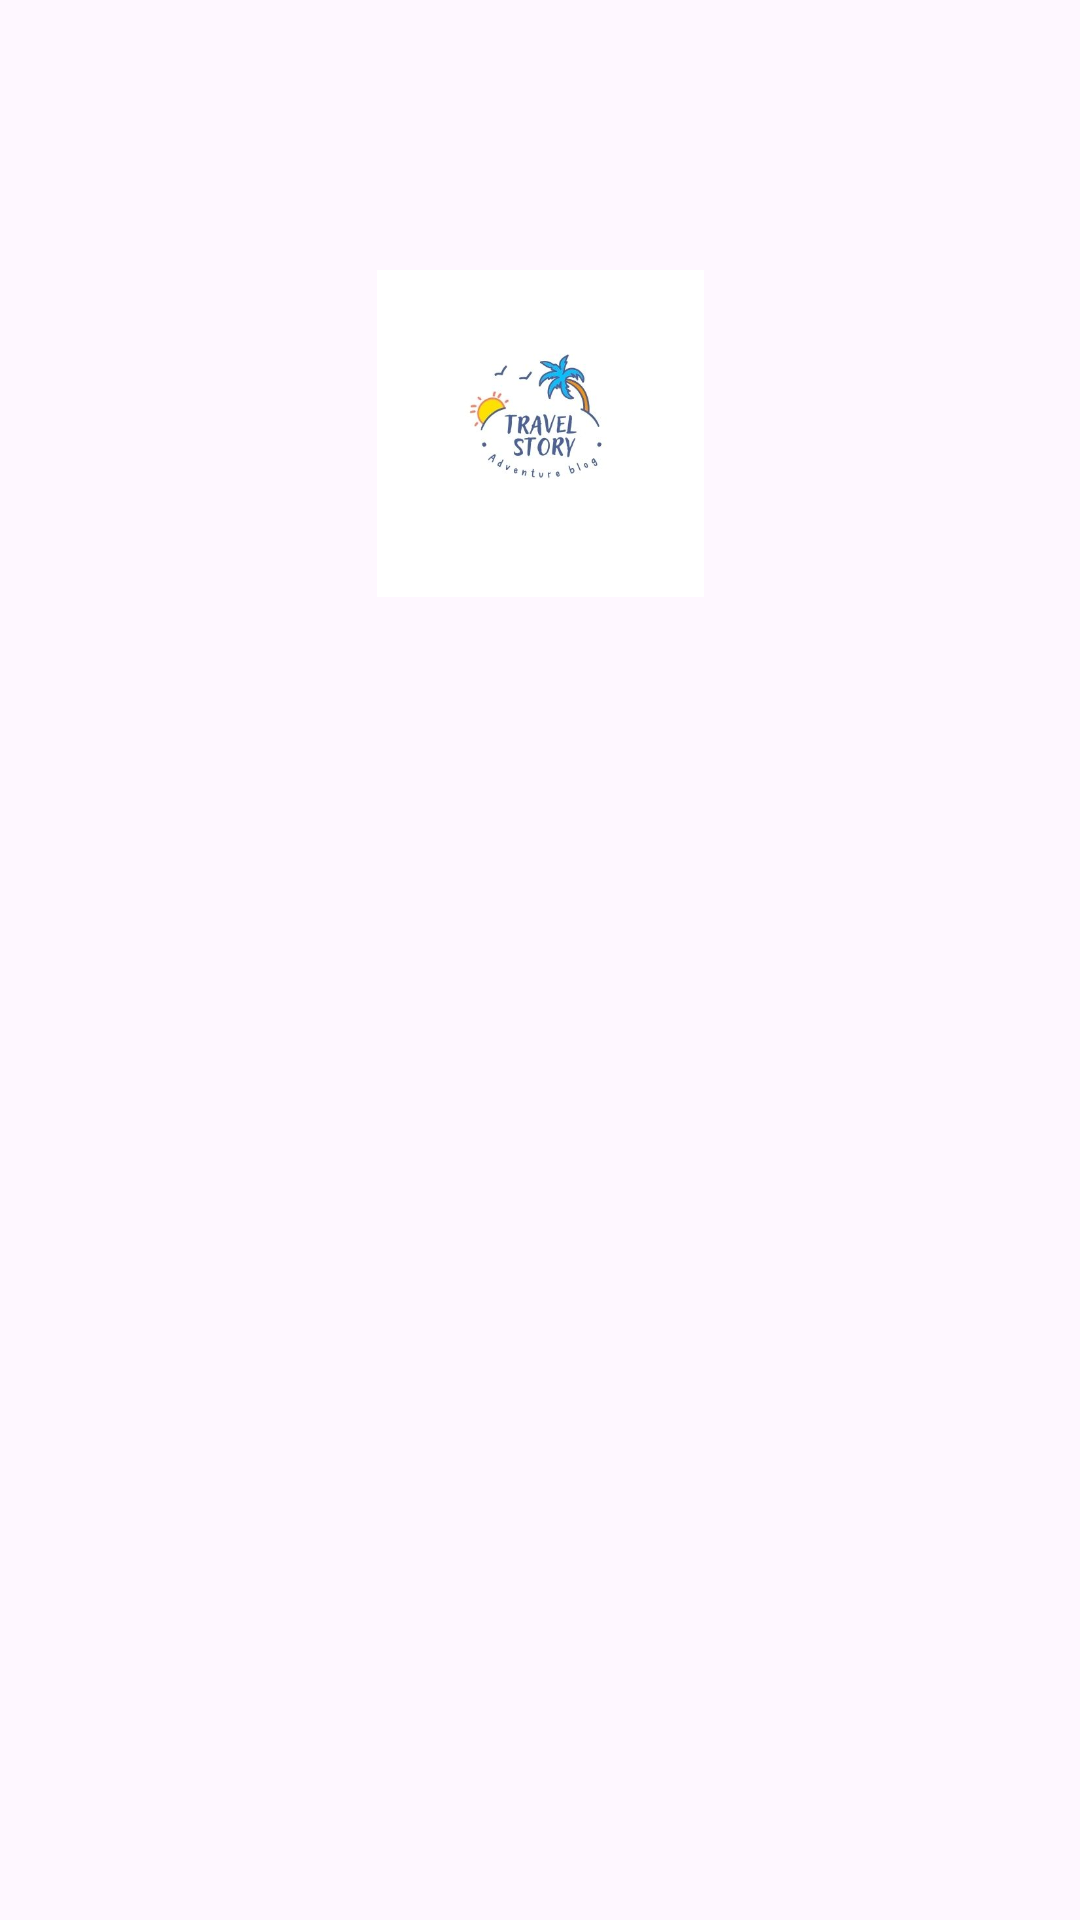

Icons on this 1080×1920 Android screen, each with the point to tap as (x,y):
Just a decorative icon for login: (536,416)
